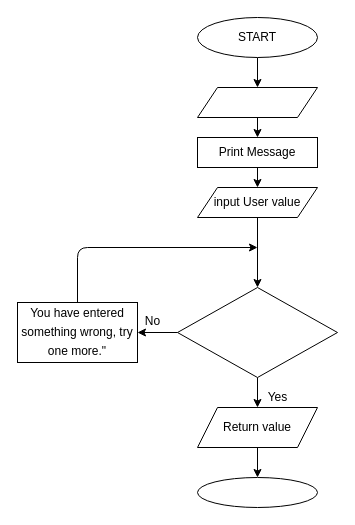
Some shapes in this 355 by 525 pixel diagram are drawn without their labels. Here are the shapes that lost their labels. From the top down, the centre of each, then its label:
the point at 257,102: Get incomming Message
the point at 257,332: if entered value is integer, & the value > 0
the point at 257,492: END
